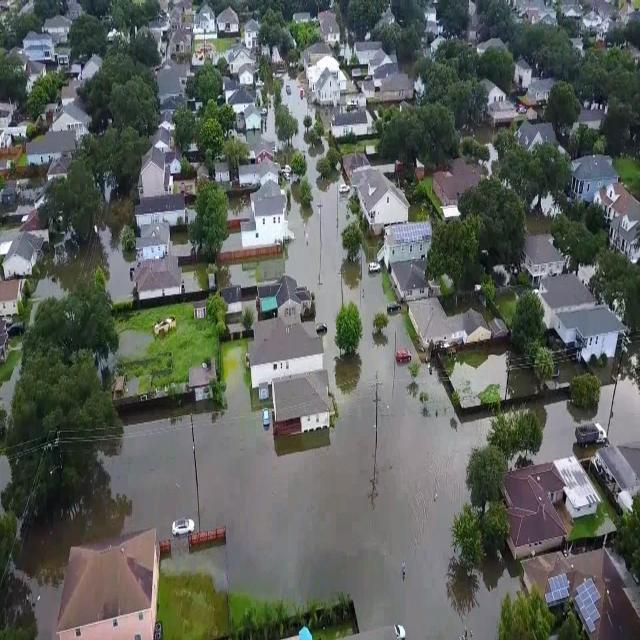flood: (7, 79, 575, 640), (28, 213, 137, 309), (182, 255, 294, 291), (446, 353, 508, 408), (592, 377, 640, 445)
house: (50, 524, 160, 640), (529, 547, 640, 640), (247, 316, 331, 435), (538, 264, 624, 369), (508, 450, 574, 563), (224, 170, 287, 258), (401, 296, 488, 356), (353, 162, 412, 234), (591, 440, 640, 516), (426, 164, 476, 225), (606, 182, 640, 264), (571, 152, 620, 208), (302, 50, 342, 110), (522, 232, 572, 278), (0, 231, 45, 278), (136, 257, 184, 300), (138, 194, 188, 226), (54, 99, 93, 138), (485, 82, 516, 126), (140, 147, 168, 191), (317, 2, 341, 48), (138, 224, 168, 258), (380, 72, 413, 102), (28, 138, 62, 166), (331, 110, 365, 138), (0, 277, 23, 318), (216, 4, 240, 40), (194, 2, 214, 36), (230, 88, 254, 114), (42, 16, 70, 36), (367, 48, 391, 71), (151, 126, 173, 148), (244, 18, 259, 50), (246, 104, 262, 132)
